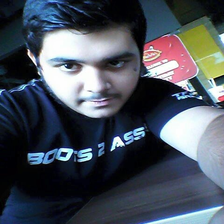no_mask: (37, 29, 140, 118)
